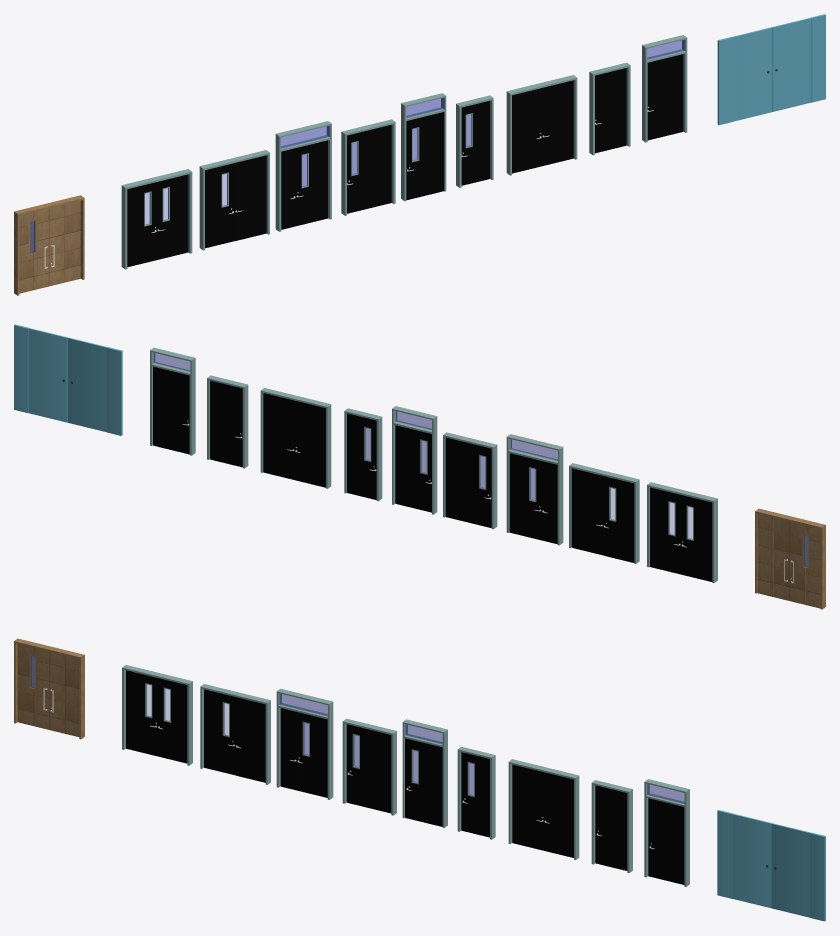
The model's file is Door_Set.fbx.
3 views of the same model, one above another, from view 1: azimuth 30°, elevation 25°; view 2: azimuth 150°, elevation 25°; view 3: azimuth 330°, elevation 25° (orthographic).
Parts seen in each view (by area): view 1: 2Door_L, 2Window_2Door_L, 1Window_2Door_L, Wood_2Door_L, Window_2Door_M, Fire_Door_Left, Window_1Door_L, Fire_Door_Right, Window_1Door_M, 1Door_M_Long, 1Door_M, Window_1Door_S; view 2: 2Door_L, Wood_2Door_L, 2Window_2Door_L, 1Window_2Door_L, Window_2Door_M, Fire_Door_Left, Window_1Door_L, Fire_Door_Right, 1Door_M_Long, Window_1Door_M, 1Door_M, Window_1Door_S; view 3: 2Door_L, 1Window_2Door_L, Wood_2Door_L, 2Window_2Door_L, Window_2Door_M, Fire_Door_Right, Fire_Door_Left, Window_1Door_L, Window_1Door_M, 1Door_M_Long, 1Door_M, Window_1Door_S.
Boxes of the visible parts, bbox=[...] form: 2Door_L: bbox=[506, 75, 577, 175]; 2Window_2Door_L: bbox=[121, 169, 192, 269]; 1Window_2Door_L: bbox=[199, 150, 269, 250]; Wood_2Door_L: bbox=[14, 195, 84, 295]; Window_2Door_M: bbox=[275, 121, 331, 231]; Fire_Door_Left: bbox=[717, 27, 771, 125]; Window_1Door_L: bbox=[341, 119, 395, 215]; Fire_Door_Right: bbox=[772, 14, 825, 111]; Window_1Door_M: bbox=[401, 93, 446, 201]; 1Door_M_Long: bbox=[642, 35, 687, 142]; 1Door_M: bbox=[589, 62, 630, 155]; Window_1Door_S: bbox=[456, 95, 493, 187]; 2Door_L: bbox=[260, 388, 331, 488]; Wood_2Door_L: bbox=[755, 508, 825, 609]; 2Window_2Door_L: bbox=[647, 482, 717, 582]; 1Window_2Door_L: bbox=[569, 463, 639, 563]; Window_2Door_M: bbox=[506, 434, 563, 545]; Fire_Door_Left: bbox=[68, 337, 122, 435]; Window_1Door_L: bbox=[443, 432, 497, 529]; Fire_Door_Right: bbox=[14, 324, 68, 422]; 1Door_M_Long: bbox=[150, 347, 195, 455]; Window_1Door_M: bbox=[392, 406, 437, 514]; 1Door_M: bbox=[207, 375, 248, 468]; Window_1Door_S: bbox=[344, 408, 382, 501]; 2Door_L: bbox=[508, 759, 579, 859]; 1Window_2Door_L: bbox=[200, 684, 270, 784]; Wood_2Door_L: bbox=[14, 638, 84, 739]; 2Window_2Door_L: bbox=[122, 665, 192, 765]; Window_2Door_M: bbox=[276, 688, 333, 799]; Fire_Door_Right: bbox=[771, 823, 825, 921]; Fire_Door_Left: bbox=[717, 810, 771, 907]; Window_1Door_L: bbox=[342, 718, 396, 815]; Window_1Door_M: bbox=[402, 719, 447, 827]; 1Door_M_Long: bbox=[644, 779, 689, 886]; 1Door_M: bbox=[591, 780, 632, 872]; Window_1Door_S: bbox=[457, 746, 495, 839].
Bounding box in the file's own units: 22.08 × 2.5 × 0.2106.
9 materials, 2 textured.
